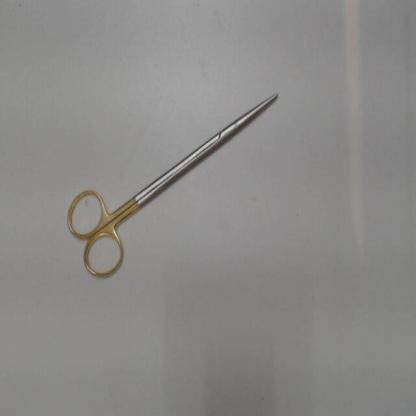7 Metzenbaum Scissors: (66, 94, 280, 282)
